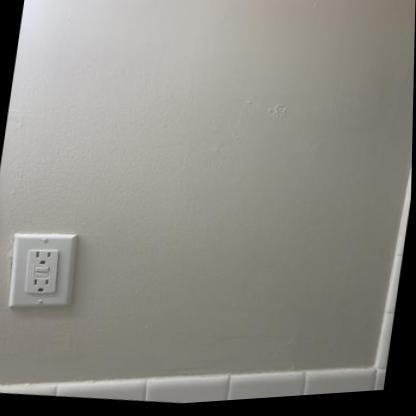OUTLET: (4, 226, 82, 314)
